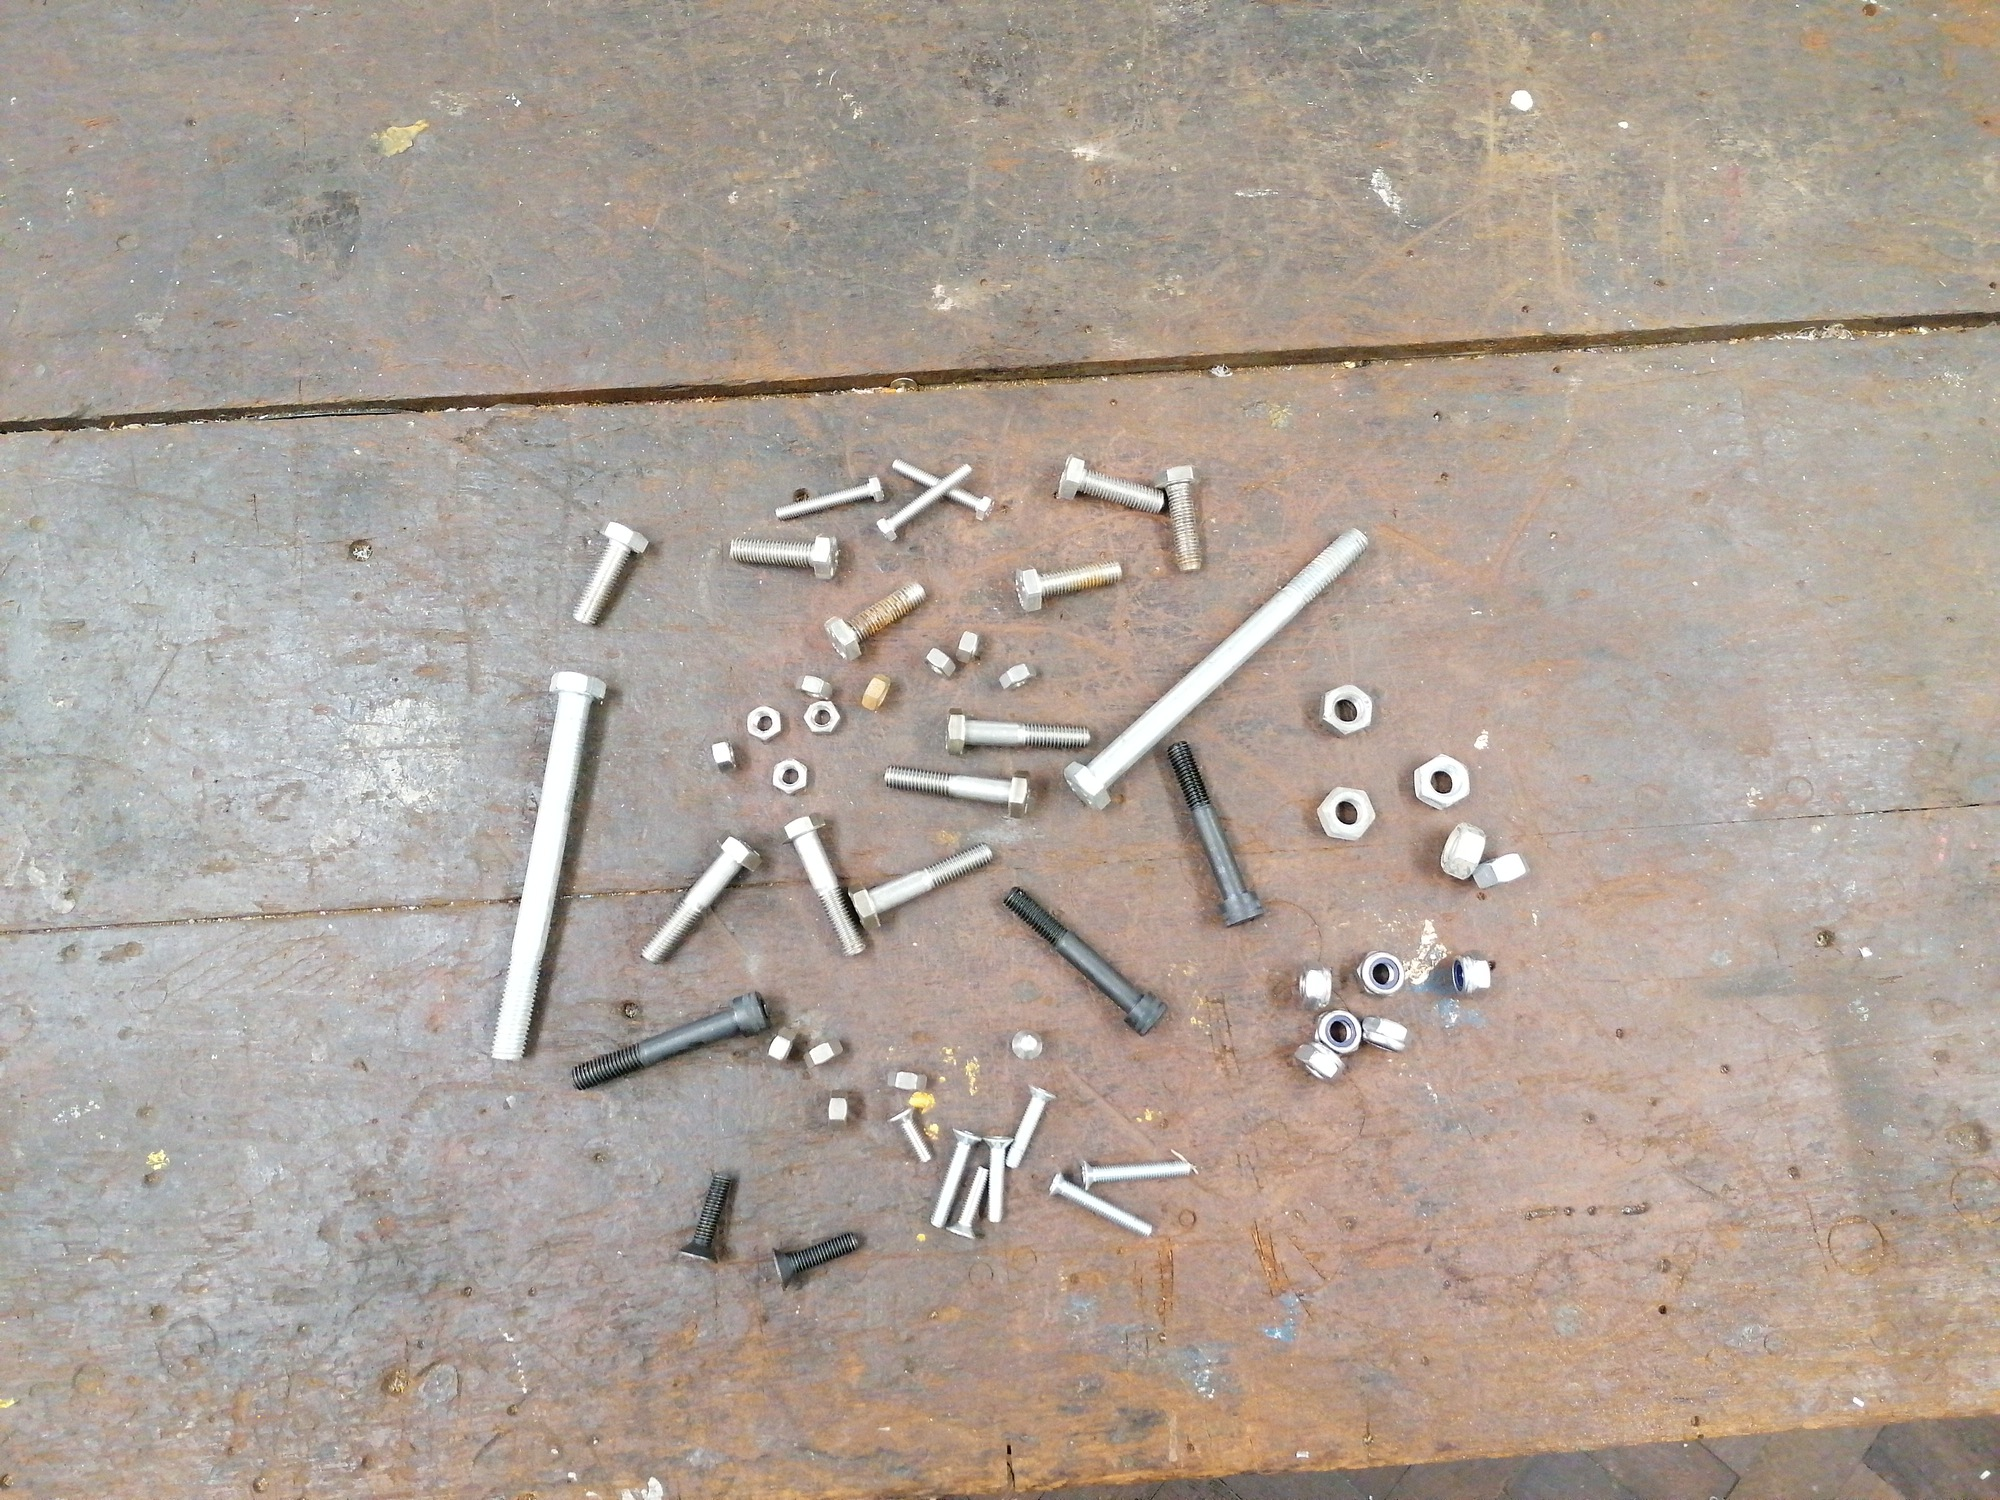bolt: (1061, 526, 1369, 810), (490, 670, 606, 1060), (1002, 886, 1167, 1037), (569, 989, 770, 1090), (1167, 737, 1265, 926), (639, 832, 762, 964), (846, 841, 994, 931), (783, 811, 868, 958), (824, 580, 928, 662), (882, 763, 1031, 818), (572, 520, 647, 627), (876, 462, 973, 542), (1047, 1169, 1153, 1238), (943, 707, 1091, 756), (890, 457, 997, 522), (1057, 452, 1165, 514), (1013, 558, 1121, 613), (1150, 463, 1203, 572), (728, 533, 841, 580), (929, 1127, 981, 1229), (775, 473, 885, 520), (772, 1231, 858, 1290), (679, 1171, 732, 1264), (1005, 1084, 1057, 1168), (1080, 1160, 1191, 1190), (945, 1164, 987, 1238), (981, 1134, 1014, 1223), (887, 1108, 932, 1161), (1009, 1029, 1044, 1060)
nut: (1413, 752, 1471, 810), (1317, 785, 1376, 841), (1317, 682, 1372, 737), (1439, 822, 1488, 879), (1354, 949, 1405, 997), (1313, 1008, 1362, 1056), (1472, 849, 1531, 889), (1293, 1040, 1345, 1082), (1449, 949, 1491, 997), (1361, 1016, 1409, 1053), (1298, 960, 1332, 1008), (745, 703, 783, 745), (772, 756, 809, 796), (802, 1037, 844, 1070), (803, 700, 841, 736), (860, 671, 890, 712), (998, 662, 1036, 692), (924, 646, 957, 679), (709, 737, 737, 774), (769, 1026, 795, 1064), (887, 1068, 928, 1092), (827, 1089, 850, 1130), (795, 674, 831, 700), (954, 629, 978, 663)
